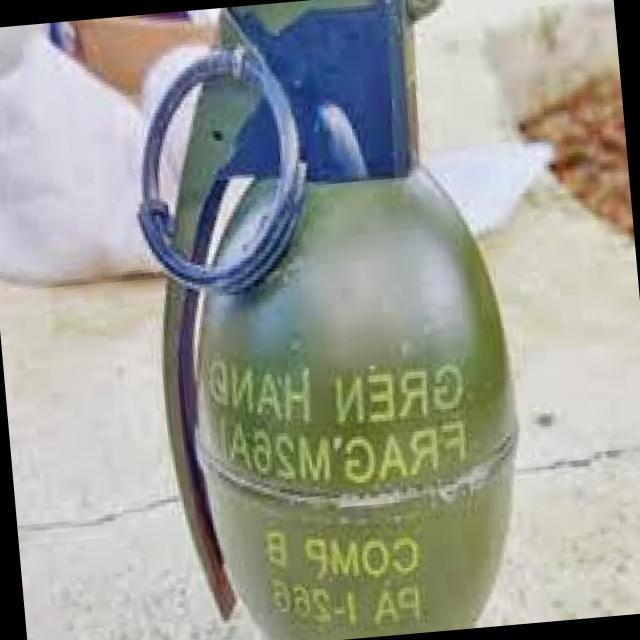grenade: (130, 0, 556, 640)
